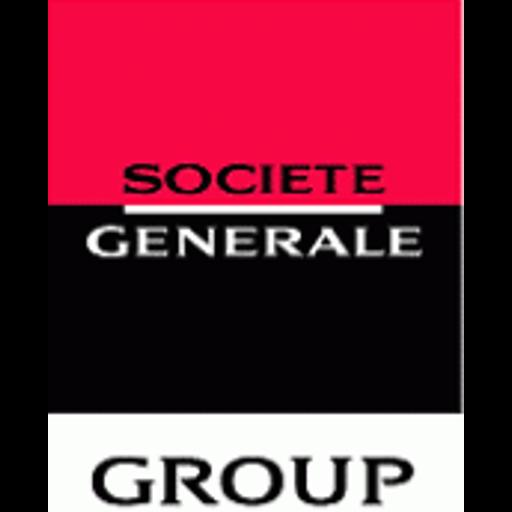Societe Generale: (48, 0, 464, 512)
